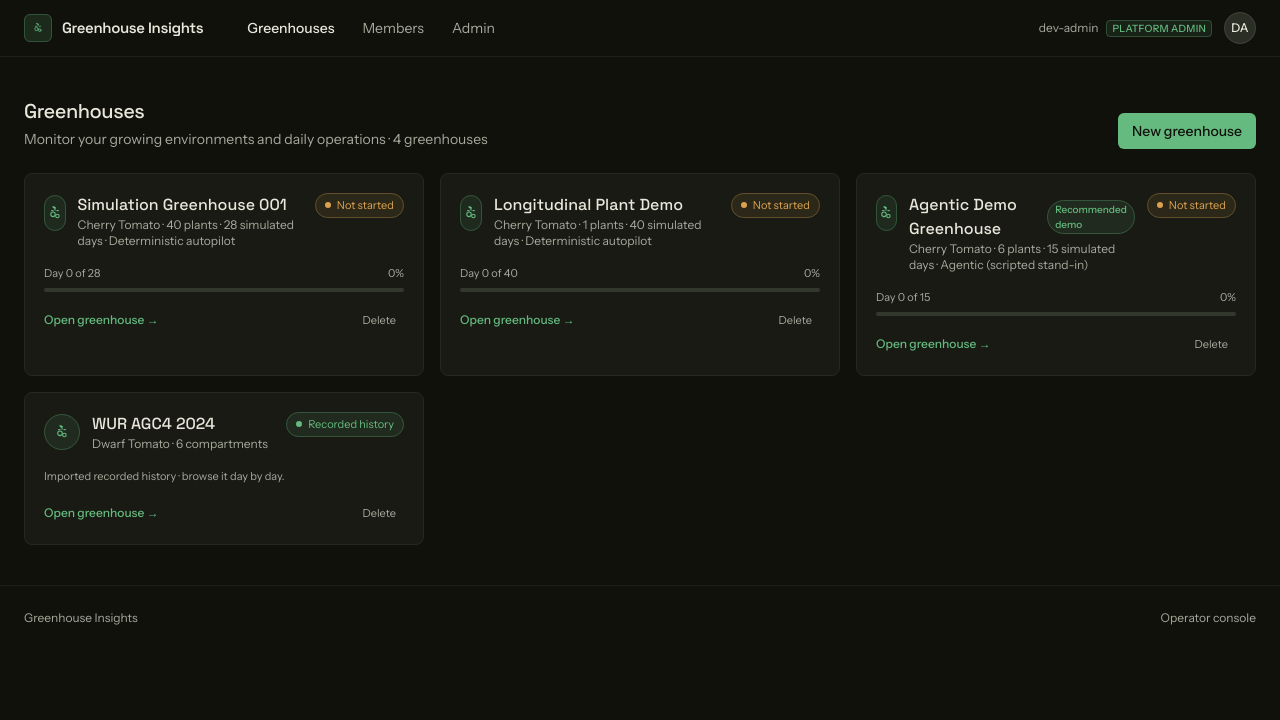
Test: GreenhouseListPage › deletes the greenhouse and removes its card once confirmed
Check: the text "Simulation Greenhouse 001" is shown, box [78,193,287,217]
Click the button "Delete" below "· 40 plants".
click(379, 320)  # box [354,308,404,332]
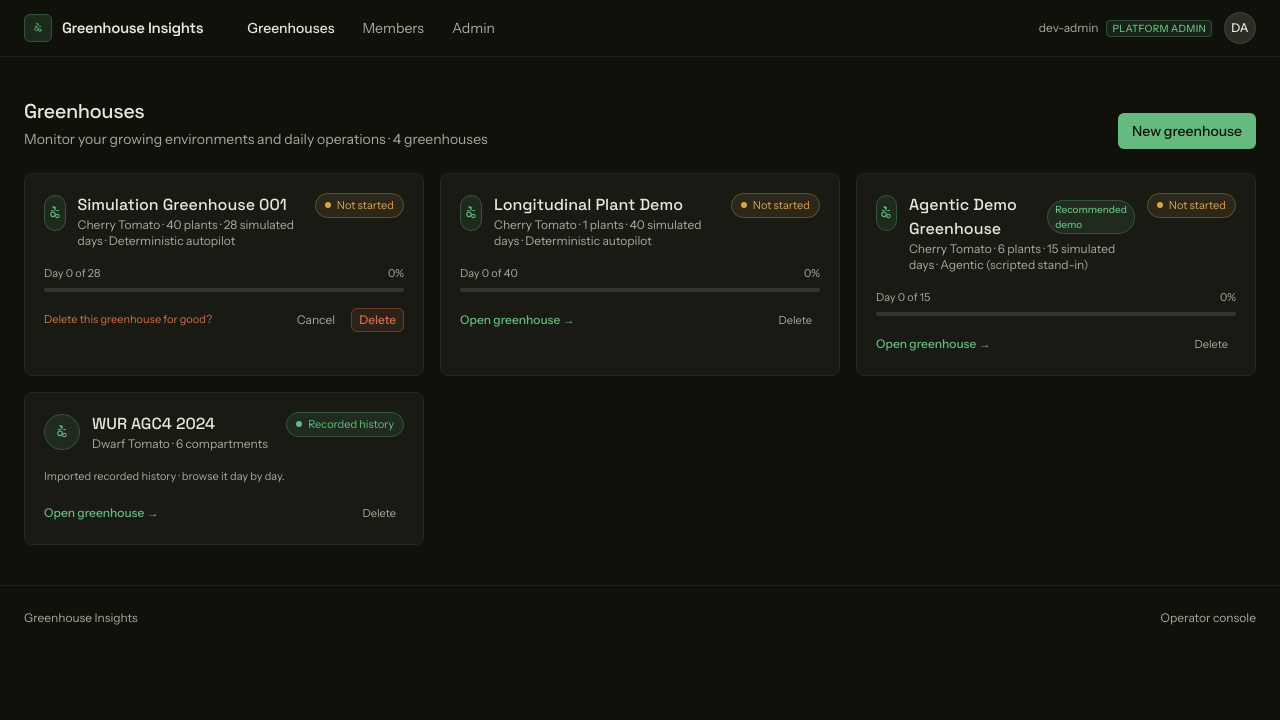
Click the button "Delete" in the row of "Delete this greenhouse for good?".
click(378, 320)  # box [351,308,404,332]
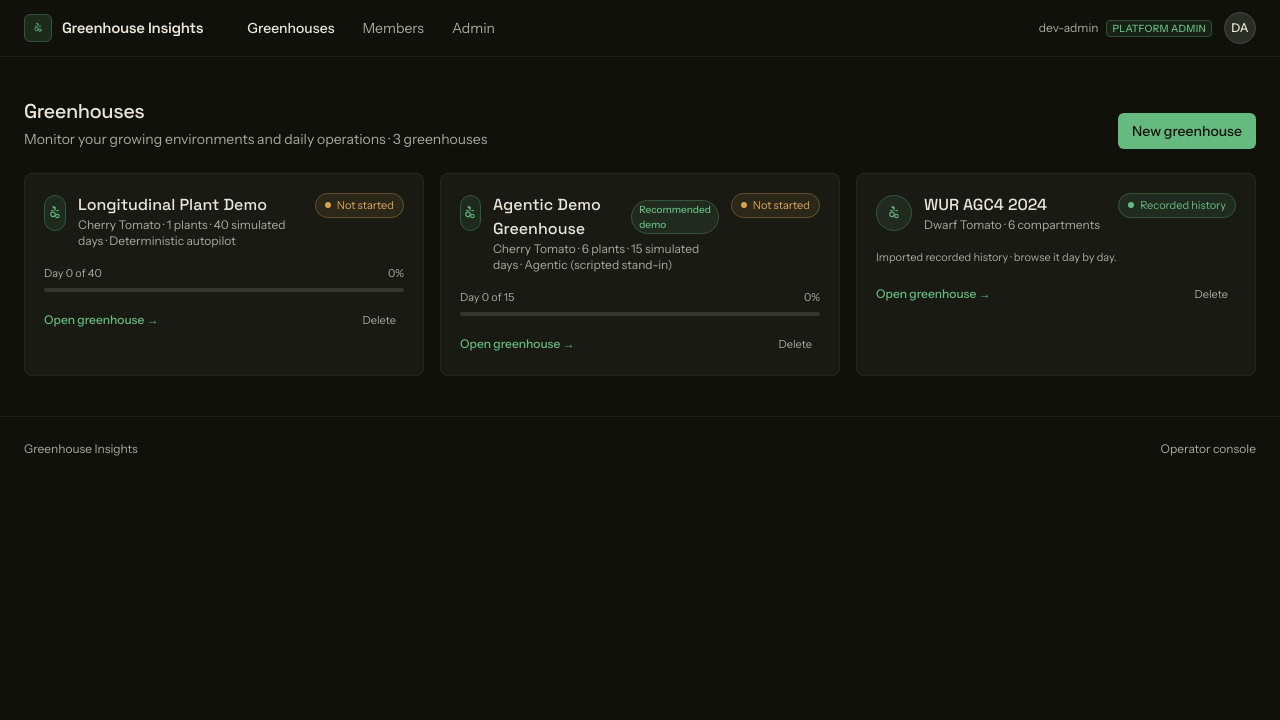
Check: the text "Longitudinal Plant Demo" is shown, box [78,193,267,217]
Check: the link "Simulation Greenhouse 001" is gone
